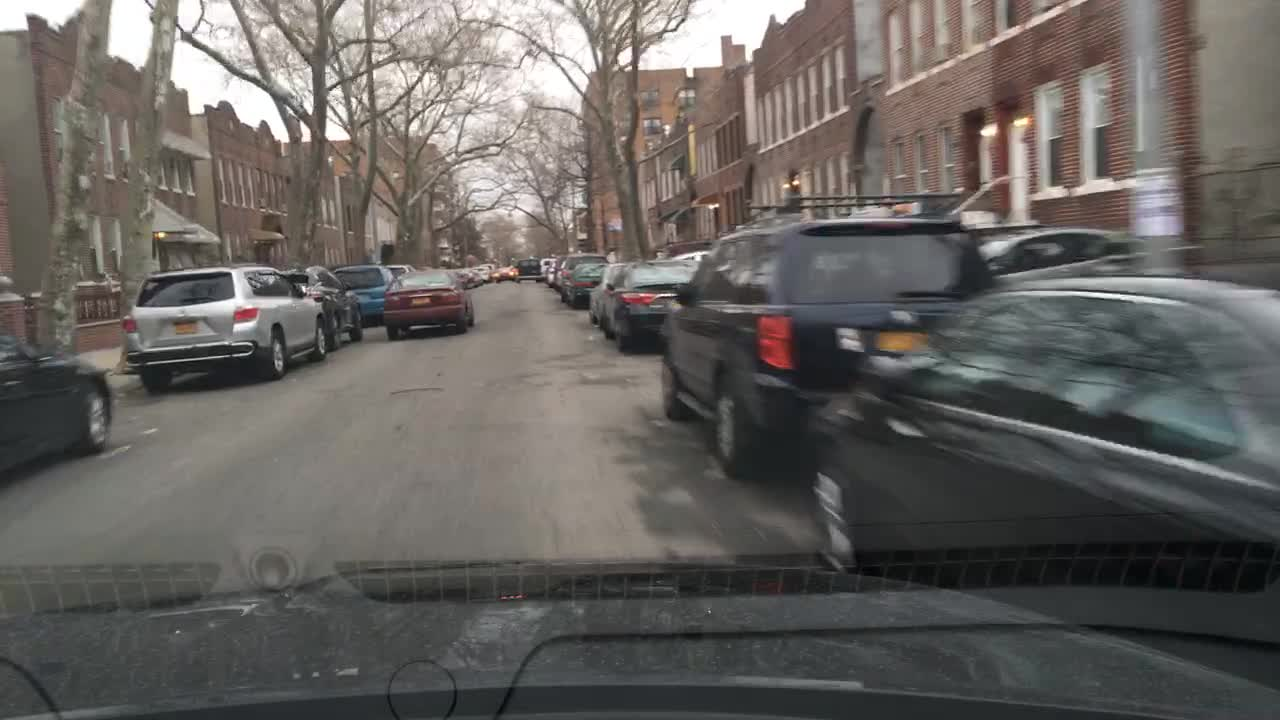car: (802, 270, 1280, 690), (656, 187, 997, 477), (123, 261, 330, 392), (0, 331, 114, 474), (973, 228, 1158, 276), (603, 261, 695, 348), (384, 268, 479, 336), (285, 267, 364, 347), (330, 264, 391, 324), (585, 259, 625, 330), (565, 262, 608, 310), (556, 253, 599, 299), (676, 244, 709, 265), (514, 257, 542, 281), (457, 269, 484, 287), (545, 259, 560, 290), (384, 263, 414, 277), (537, 253, 553, 277), (491, 264, 514, 280), (471, 263, 490, 280)
